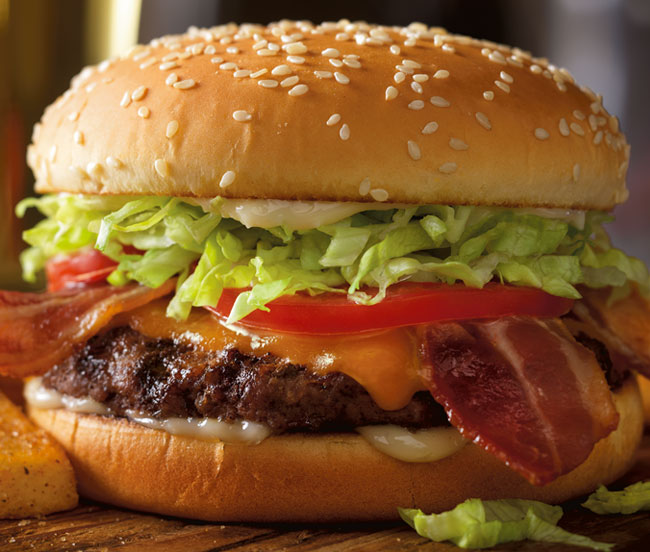hamburger_buns: (11, 17, 640, 224)
